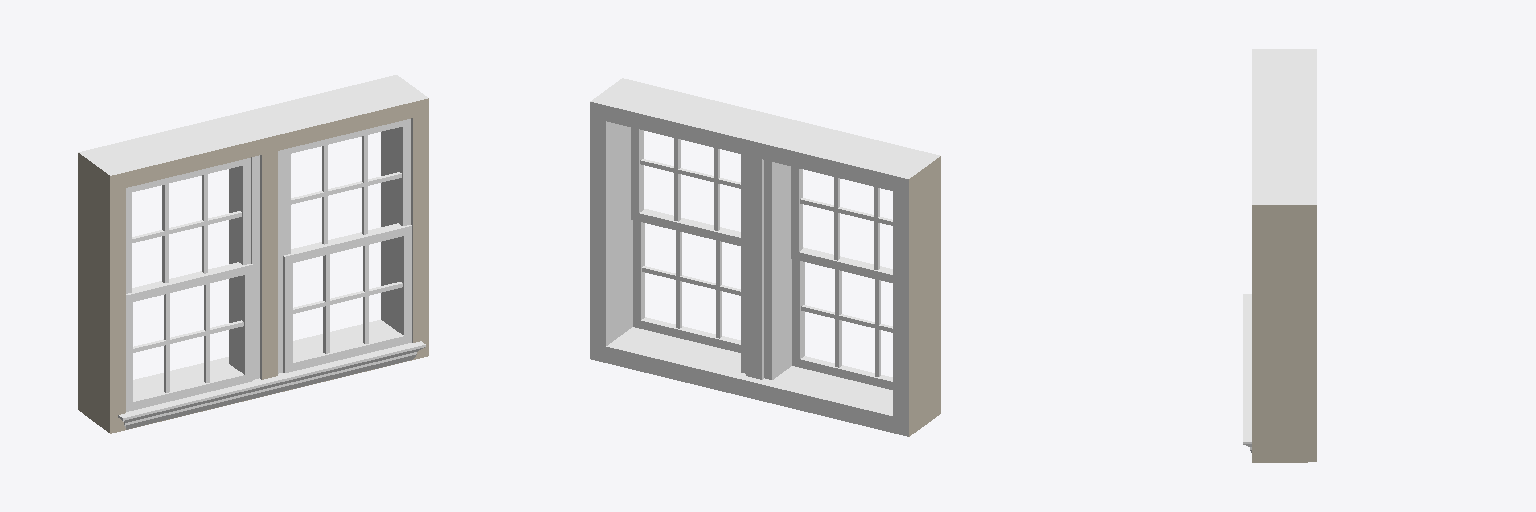
File: Window_Double.obj
3 views of the same model, side by side, from view 1: azimuth 30°, elevation 25°; view 2: azimuth 150°, elevation 25°; view 3: azimuth 270°, elevation 25° (orthographic).
Visible parts, largest first — view 1: object2, object3, object5, object1, object4; view 2: object2, object3, object5, object1, object4; view 3: object2.
Boxes of the visible parts, x1,y1,x2,y2 form: object2: [78, 75, 428, 433]; object3: [283, 225, 411, 372]; object5: [126, 264, 252, 411]; object1: [283, 119, 410, 255]; object4: [126, 158, 250, 293]; object2: [590, 78, 940, 436]; object3: [633, 209, 740, 352]; object5: [792, 247, 892, 389]; object1: [631, 128, 740, 245]; object4: [791, 167, 892, 282]; object2: [1243, 49, 1316, 462].
Size of the model in its own units: 2 by 1.55 by 0.4.